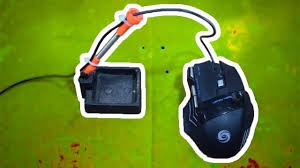mouse: (175, 61, 264, 168)
